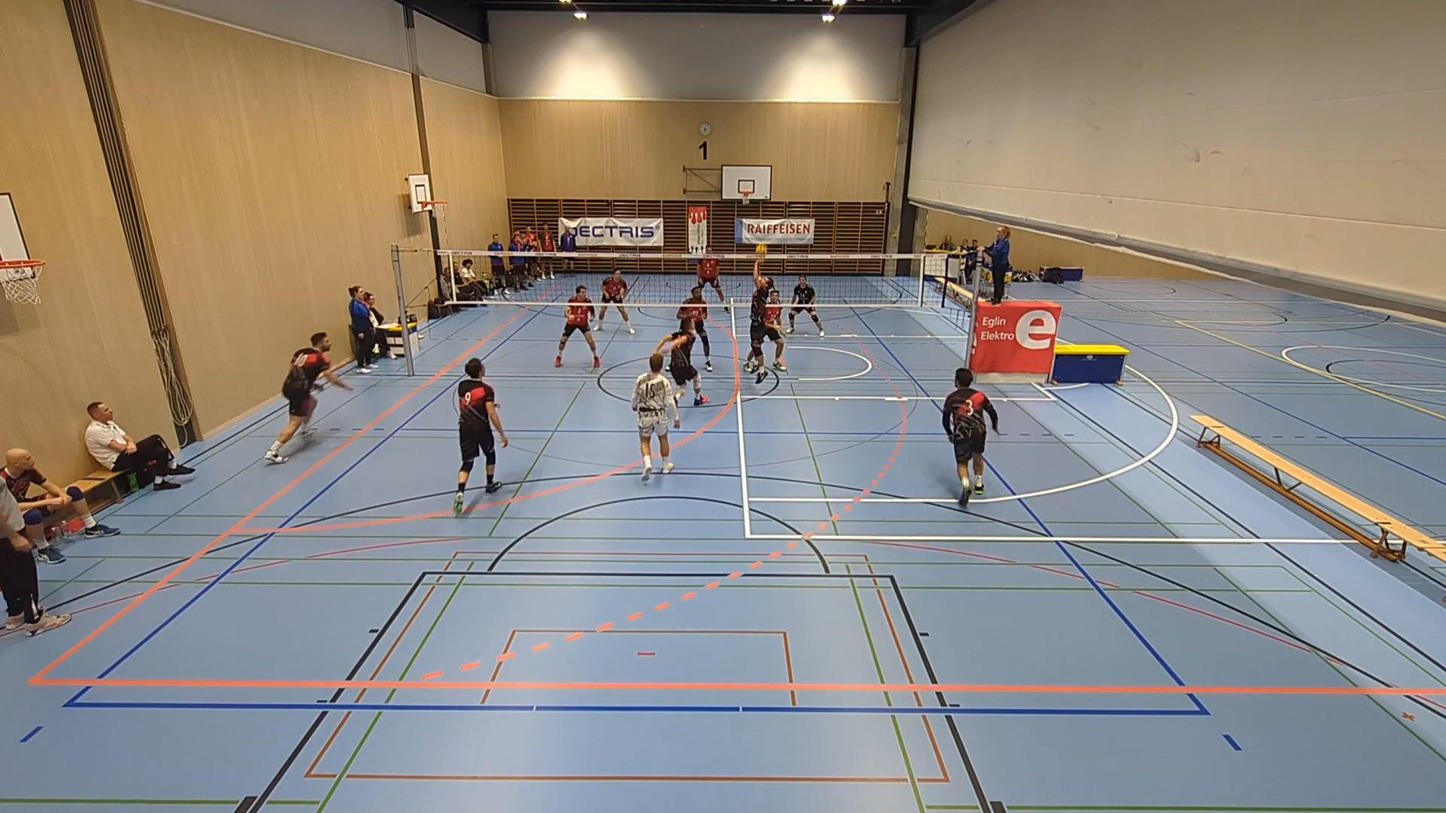Player: (264, 333, 352, 463), (453, 358, 508, 515), (942, 367, 998, 505), (631, 353, 680, 481), (654, 315, 708, 406), (743, 259, 773, 382), (554, 286, 599, 367), (677, 285, 712, 371), (598, 269, 635, 333), (786, 275, 824, 336), (764, 288, 786, 371), (698, 257, 726, 306)
Set: (747, 254, 794, 372)
